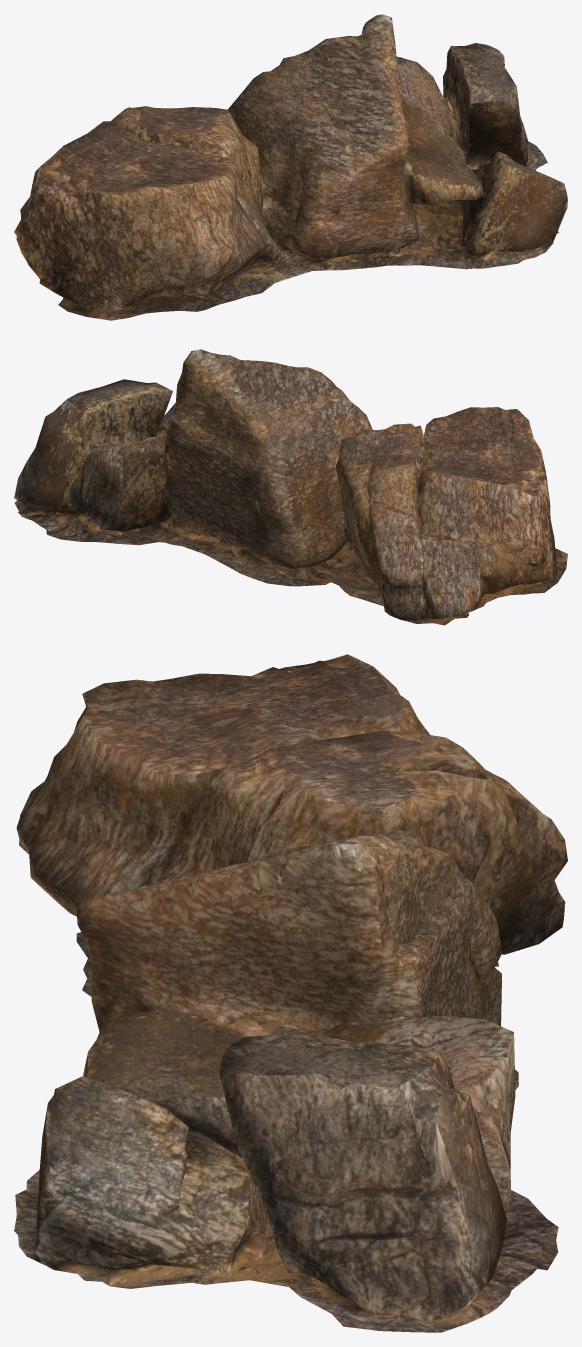
Rendered from boulder_split.gltf.
The picture shows the model from 3 angles, top to bottom: view 1: azimuth 30°, elevation 25°; view 2: azimuth 150°, elevation 25°; view 3: azimuth 270°, elevation 25°; orthographic projection. The views are drawn at different scales.
Parts seen in each view (by area): view 1: boulder_split; view 2: boulder_split; view 3: boulder_split.
Boxes of the visible parts, x1,y1,x2,y2 form: boulder_split: (14,14,567,320); boulder_split: (14,349,567,625); boulder_split: (14,654,567,1332).
Size of the model in its own units: 6.28 by 2.18 by 3.07.
1 material, 1 textured.
